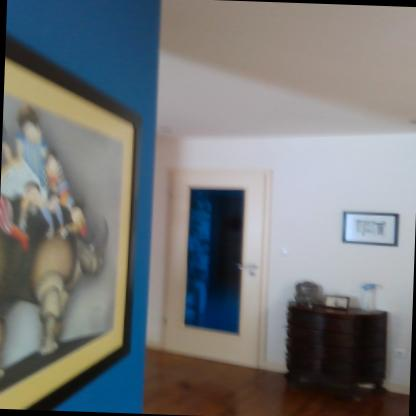closed: (153, 158, 287, 368)
